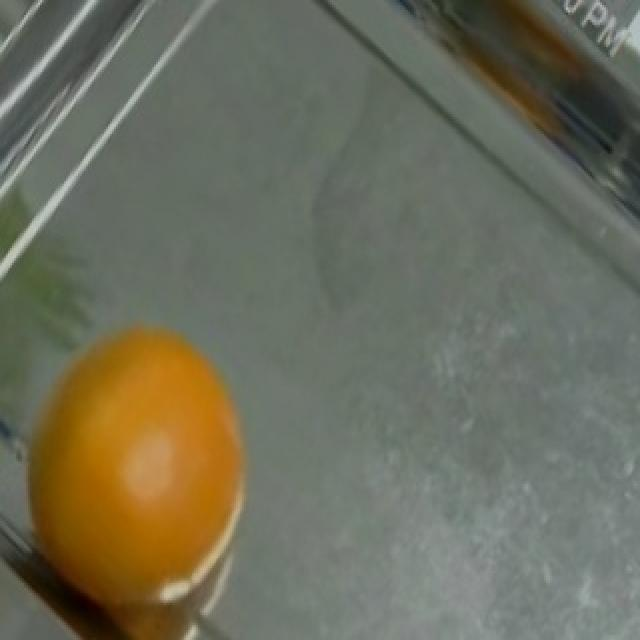Fruit: (2, 302, 270, 640)
